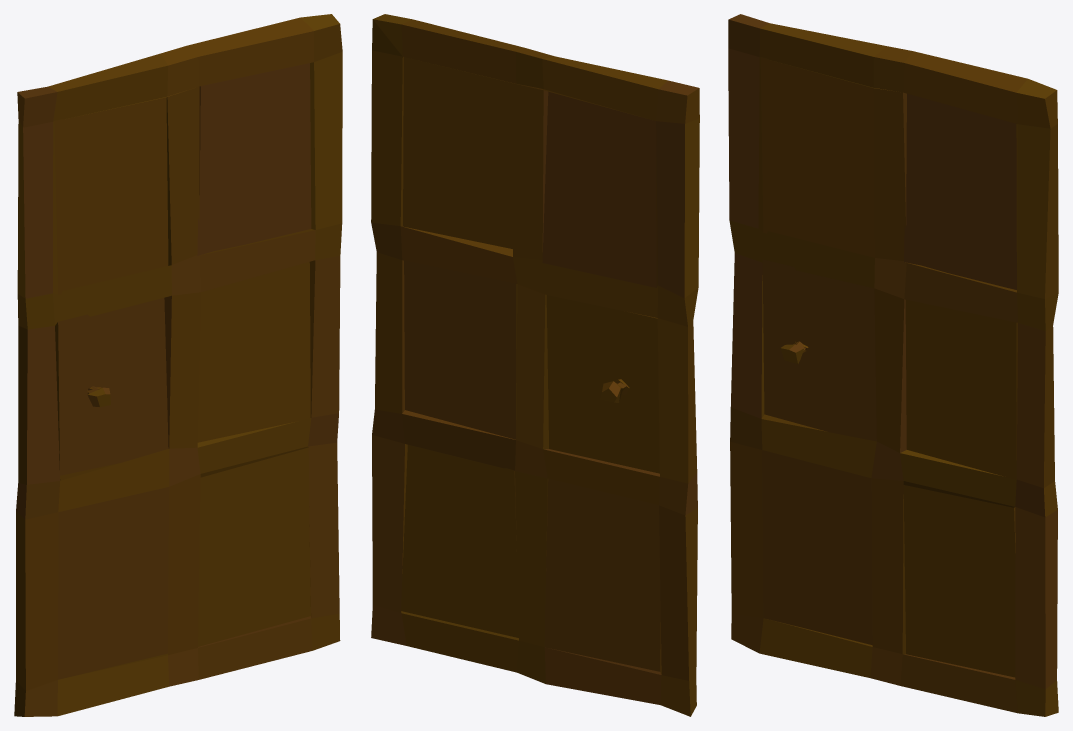
File: SmallWoodenDoor.glb
The picture shows the model from 3 angles, left to right: view 1: azimuth 30°, elevation 25°; view 2: azimuth 150°, elevation 25°; view 3: azimuth 330°, elevation 25°; orthographic projection.
Parts seen in each view (by area): view 1: SmallWoodenDoor; view 2: SmallWoodenDoor; view 3: SmallWoodenDoor.
Boxes of the visible parts, <box> form: SmallWoodenDoor: <box>14,14,342,716</box>; SmallWoodenDoor: <box>371,14,699,716</box>; SmallWoodenDoor: <box>728,14,1058,716</box>.
Bounding box in the file's own units: 1.08 × 2.02 × 0.187.
